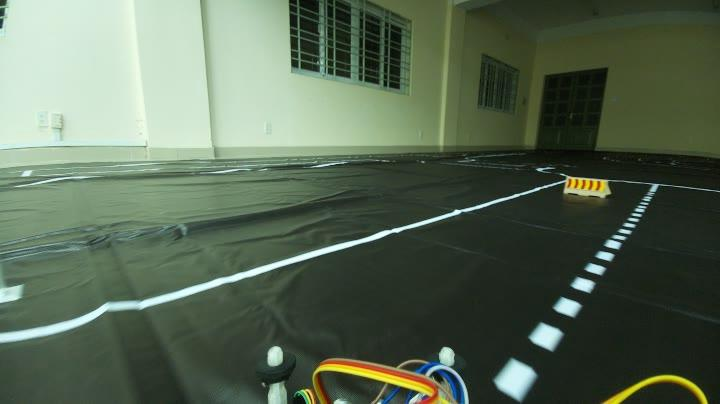roadblock: (561, 170, 607, 201)
